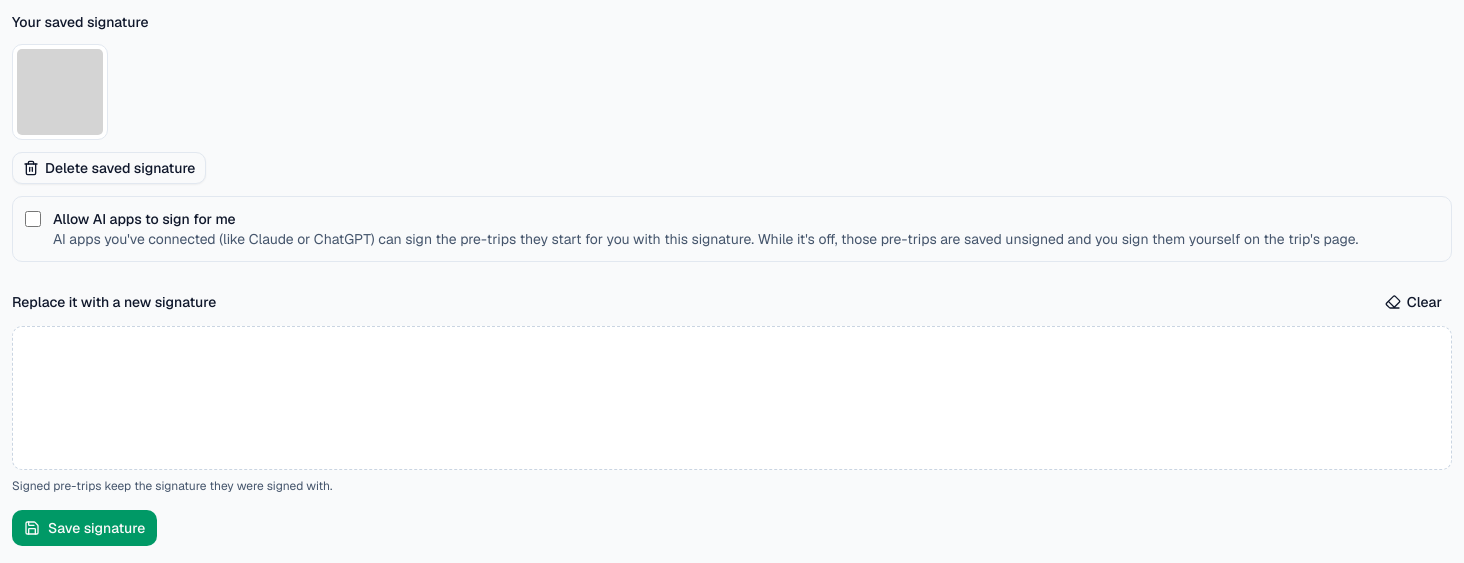
Test: SignatureSettings › turns "Allow AI apps to sign for me" on and off
Later steps or results of the test are not shown.
Expected: the switch labelled "Allow AI apps to sign for me" is not checked, [25,211,41,227]
Expected: the text "can sign the pre-trips they start for you" is shown, [53,230,1358,248]
Press the mouse on the picture named "box. Sign with" at (732, 398), box [12,326,1452,470]
Click the switch labelled "Allow AI apps to sign for me" at (33, 219), box [25,211,41,227]
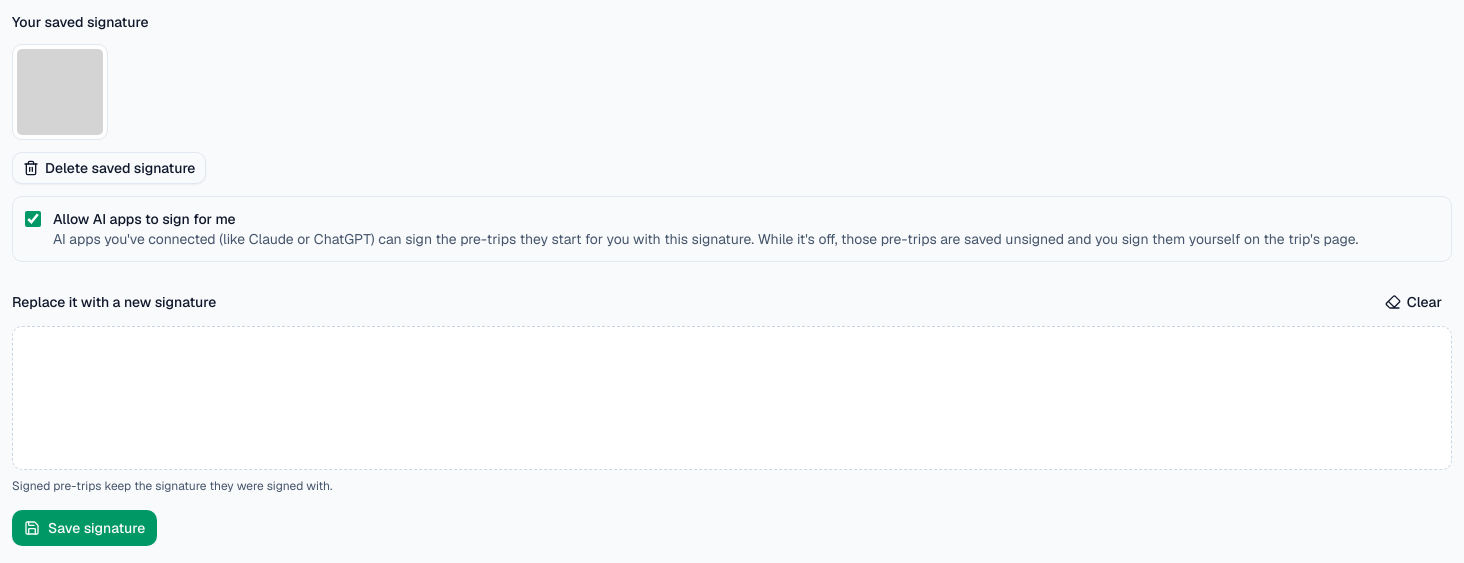
Now the switch labelled "Allow AI apps to sign for me" is checked, box [25,211,41,227]
Click the button "Save signature" at (85, 528), box [12,510,157,546]
Now the switch labelled "Allow AI apps to sign" is checked, box [25,211,41,227]
